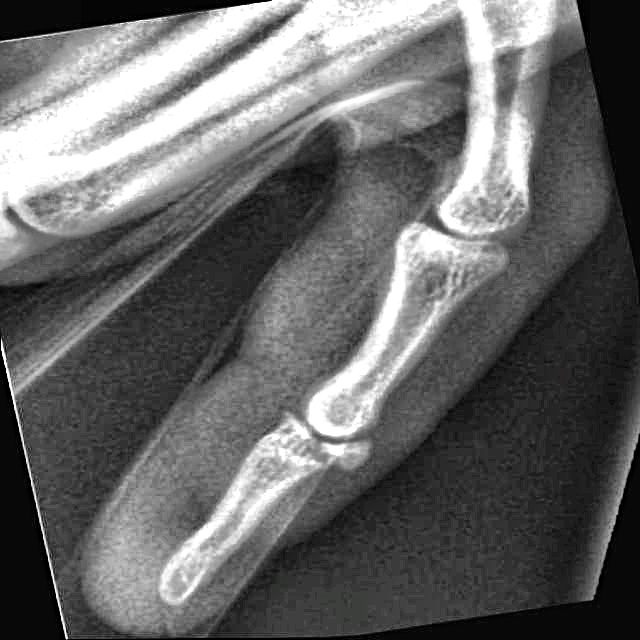Greenstick: (251, 400, 390, 480)
